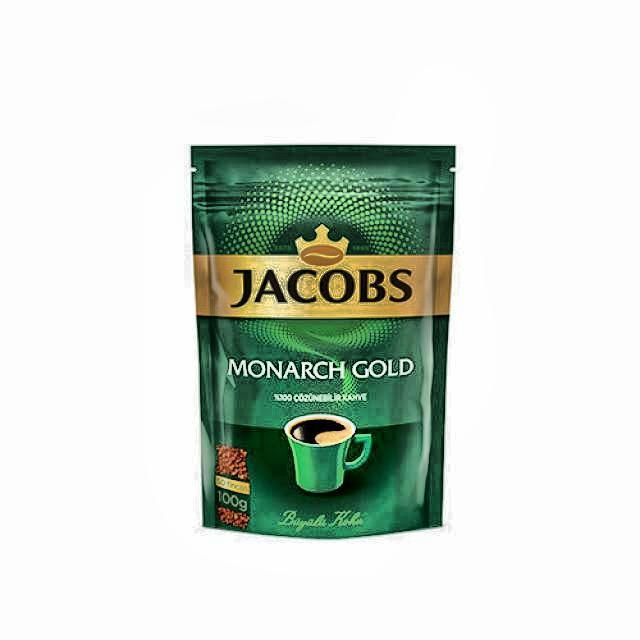plastic: (190, 145, 456, 543)
